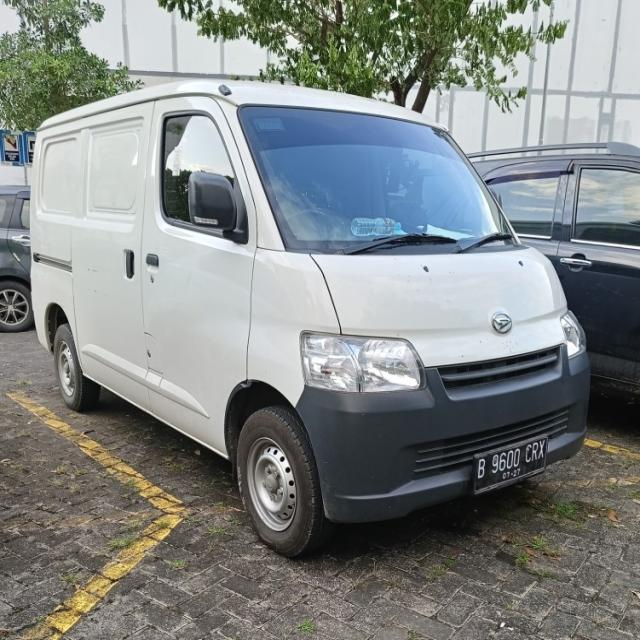plates: (472, 429, 550, 492)
